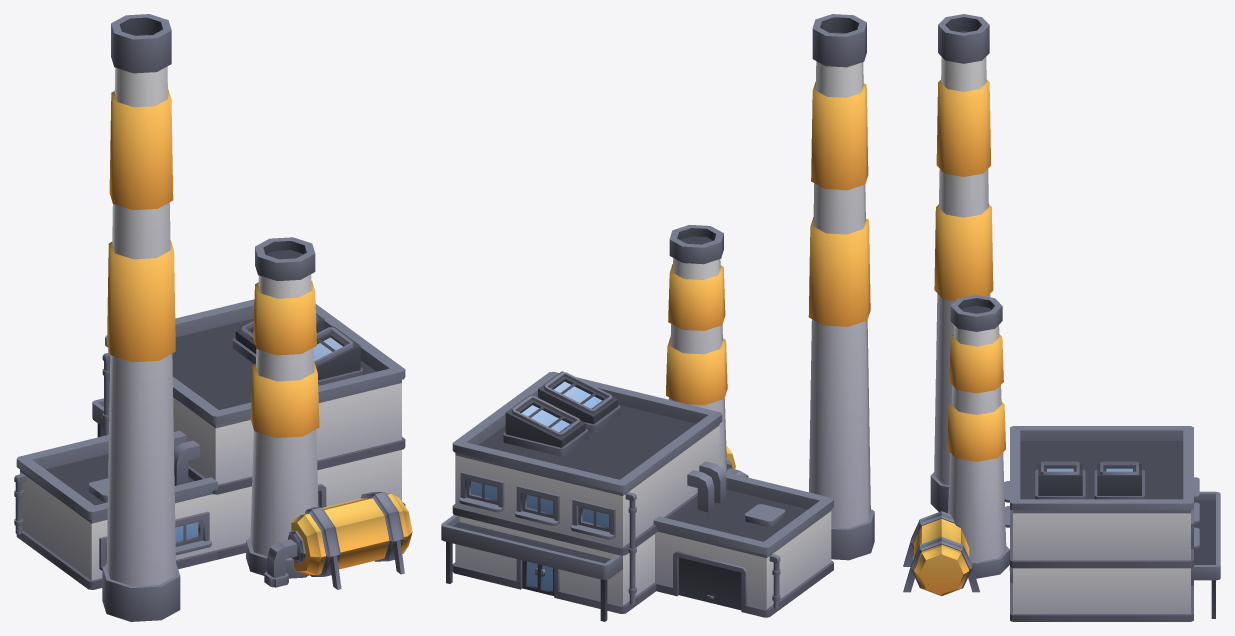
Rendered from plant_works.glb.
The picture shows the model from 3 angles, left to right: view 1: azimuth 30°, elevation 25°; view 2: azimuth 150°, elevation 25°; view 3: azimuth 270°, elevation 25°; orthographic projection. The views are drawn at different scales.
Visible parts, largest first — view 1: plant_works; view 2: plant_works; view 3: plant_works.
Boxes of the visible parts, x1,y1,x2,y2 form: plant_works: [14, 14, 412, 621]; plant_works: [441, 14, 874, 621]; plant_works: [903, 14, 1220, 621].
Bounding box in the file's own units: 0.9296 × 1.57 × 0.94.
4 materials, 4 textured.
